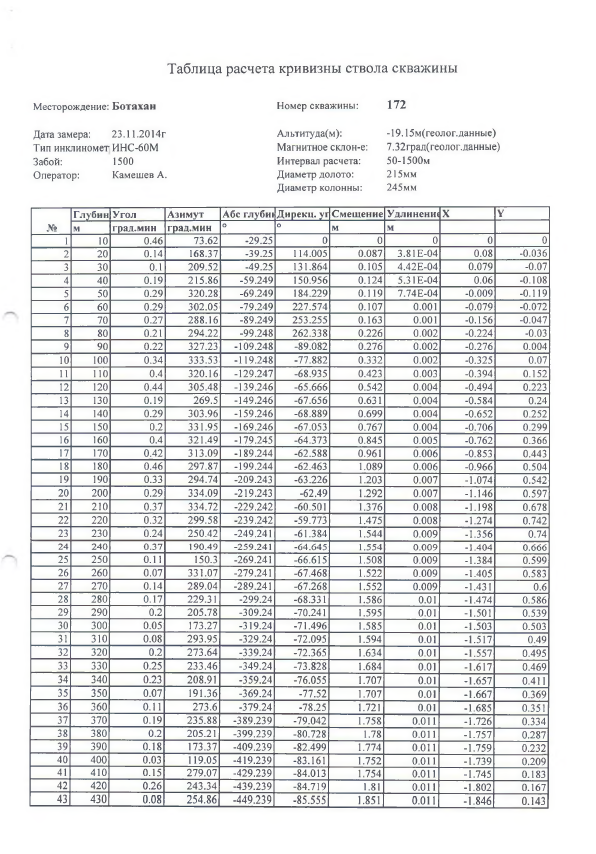Bordered: (28, 205, 552, 810)
